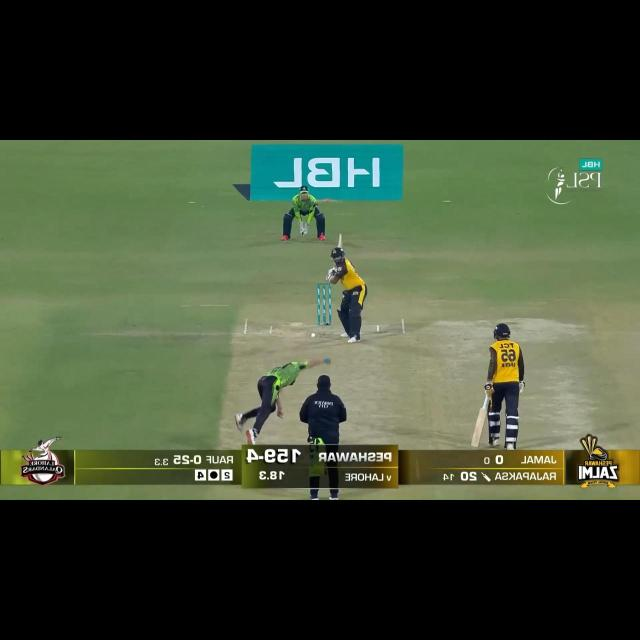bat: (470, 409, 489, 447), (336, 232, 345, 250)
toe: (337, 234, 344, 245), (471, 440, 481, 447)
